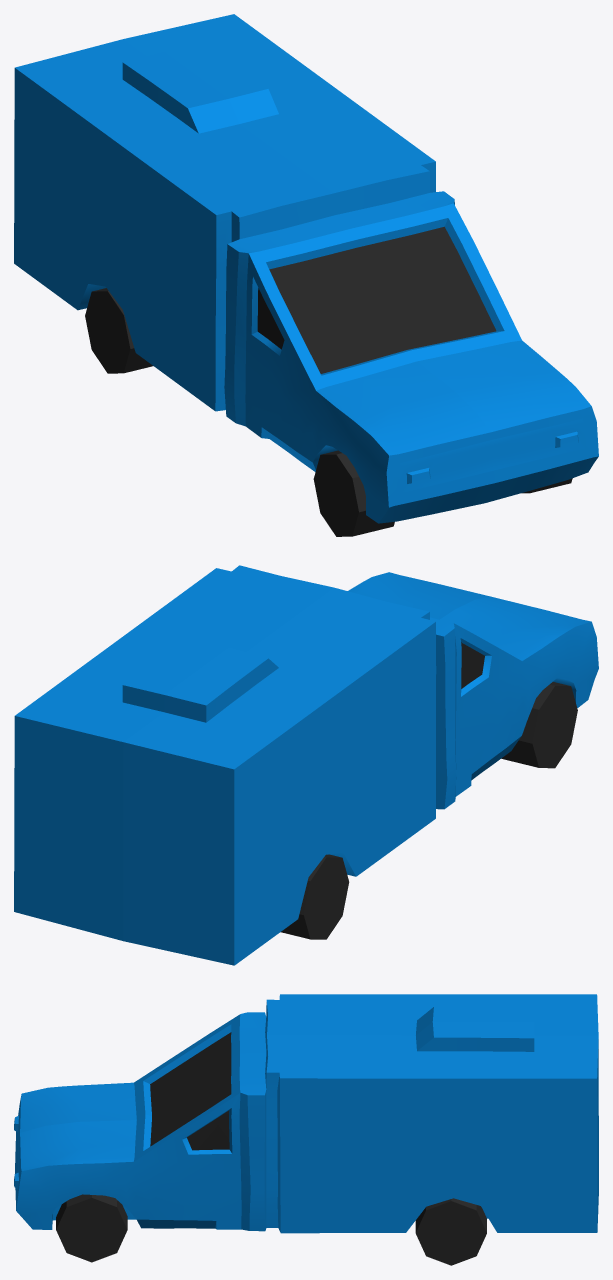
File: Truck.fbx
3 renders of one model, top to bottom at view 1: azimuth 30°, elevation 25°; view 2: azimuth 150°, elevation 25°; view 3: azimuth 270°, elevation 25°, orthographic. The views are drawn at different scales.
Visible parts, largest first — view 1: Car.001; view 2: Car.001; view 3: Car.001.
Part boxes in pixels (x1=…): Car.001: x1=14, y1=14, x2=598, y2=536; Car.001: x1=14, y1=565, x2=598, y2=965; Car.001: x1=14, y1=994, x2=598, y2=1265.
Bounding box in the file's own units: 169 × 186 × 488.
